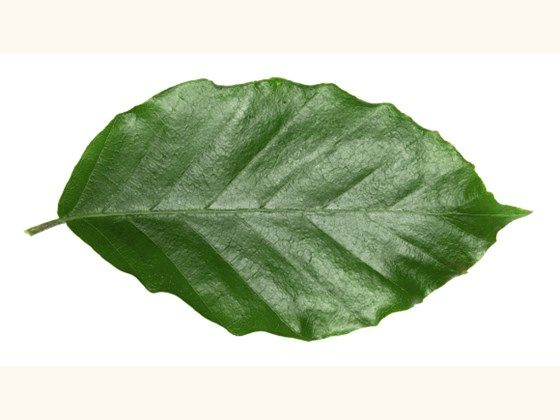healthy: (34, 71, 514, 337)
